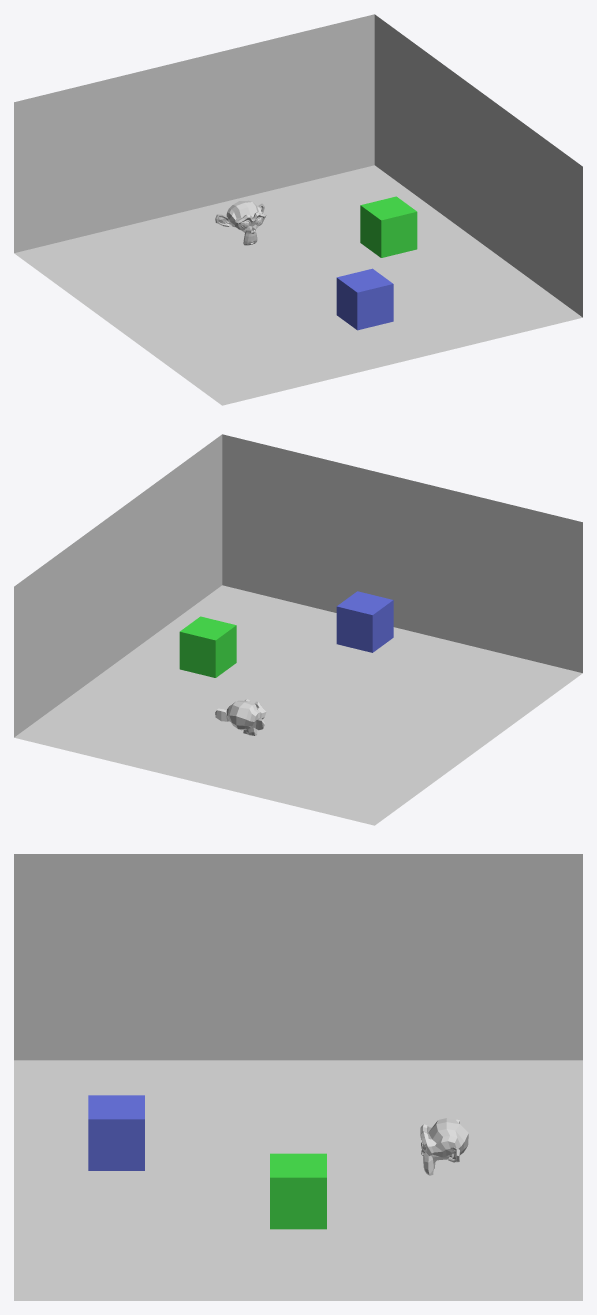
The picture shows the model from 3 angles, top to bottom: view 1: azimuth 30°, elevation 25°; view 2: azimuth 150°, elevation 25°; view 3: azimuth 270°, elevation 25°; orthographic projection. The views are drawn at different scales.
Visible parts, largest first — view 1: Floor, Wall.001, Wall.002, Cube.001, Cube, Suzanne; view 2: Floor, Wall, Wall.002, Cube.001, Cube, Suzanne; view 3: Floor, Wall.003, Cube, Cube.001, Suzanne.
Part boxes in pixels (x1,y1,x2,y2): Floor: (14,165,582,405); Wall.001: (14,14,374,252); Wall.002: (374,14,582,317); Cube.001: (336,268,393,330); Cube: (360,196,417,257); Suzanne: (215,200,266,245); Floor: (14,585,582,825); Wall: (222,434,582,672); Wall.002: (14,434,222,737); Cube.001: (336,591,393,652); Cube: (179,616,236,677); Suzanne: (215,699,266,735); Floor: (14,1060,582,1300); Wall.003: (14,854,582,1060); Cube: (270,1153,326,1229); Cube.001: (88,1095,144,1170); Suzanne: (420,1118,468,1175).
Size of the model in its own units: 20 by 8 by 20.
